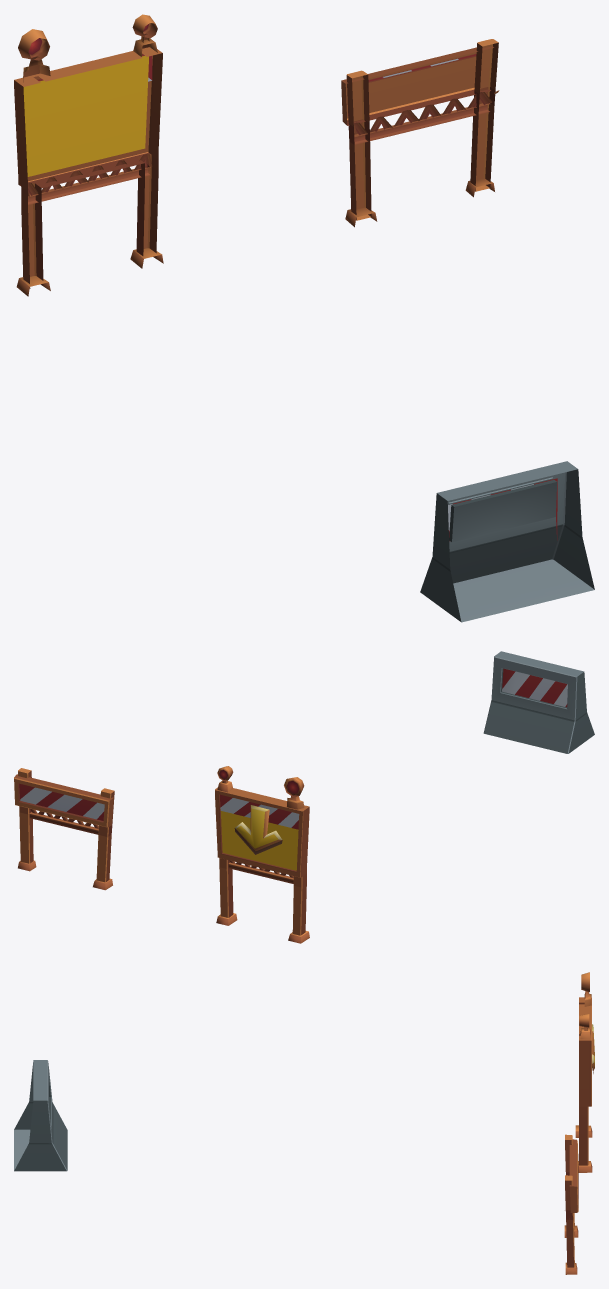
Rendered from Barrier_new.fbx.
3 renders of one model, top to bottom at view 1: azimuth 30°, elevation 25°; view 2: azimuth 150°, elevation 25°; view 3: azimuth 270°, elevation 25°, orthographic. The views are drawn at different scales.
Visible parts, largest first — view 1: bar_1, bar_3, bar_2; view 2: bar_1, bar_3, bar_2; view 3: bar_3, bar_1, bar_2.
Boxes of the visible parts, x1,y1,x2,y2 form: bar_1: (14,14,163,296); bar_3: (420,461,594,622); bar_2: (341,39,499,227); bar_1: (215,766,309,943); bar_3: (483,651,594,753); bar_2: (14,768,114,890); bar_3: (14,1060,67,1171); bar_1: (575,972,594,1172); bar_2: (564,1134,578,1274).
Size of what is drawn, in the model's own units: 270 by 141 by 450.
